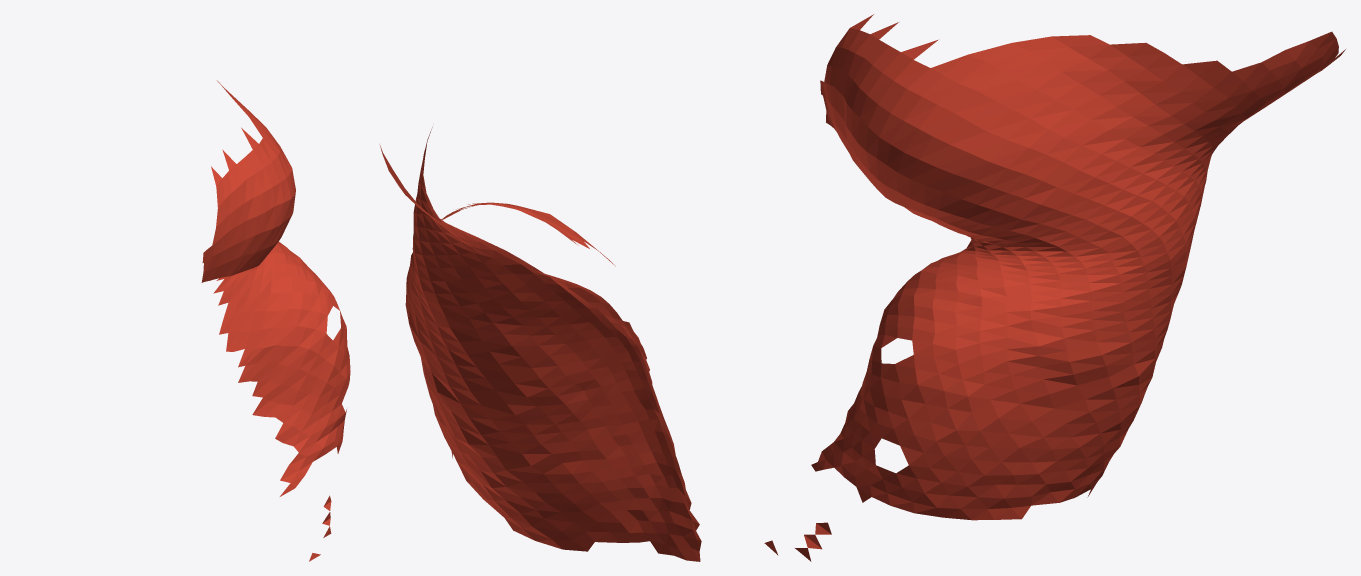
The model's file is lh_entorhinal.glb.
3 views of the same model, side by side, from view 1: azimuth 30°, elevation 25°; view 2: azimuth 150°, elevation 25°; view 3: azimuth 270°, elevation 25° (orthographic). The views are drawn at different scales.
Parts seen in each view (by area): view 1: world; view 2: world; view 3: world.
Boxes of the visible parts, left/top/right/bottom form: world: left=201, top=80, right=350, bottom=561; world: left=379, top=127, right=701, bottom=561; world: left=764, top=14, right=1345, bottom=561.
Size of the model in its own units: 17.15 by 25.76 by 26.01.
